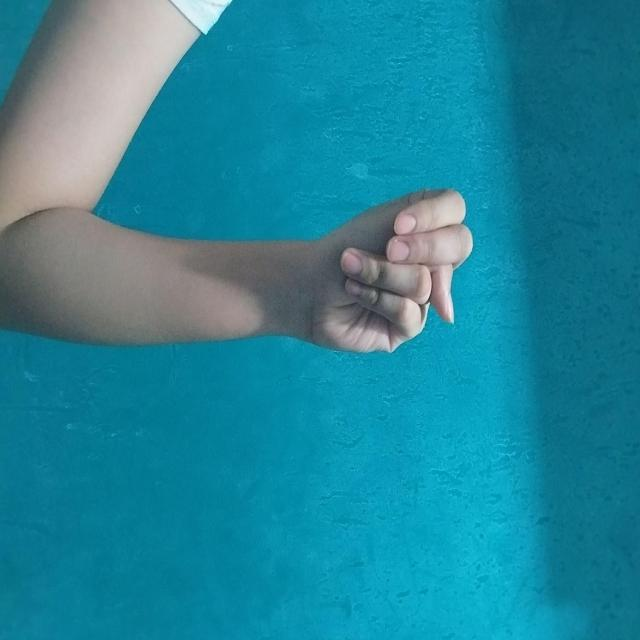N: (185, 164, 356, 329)
